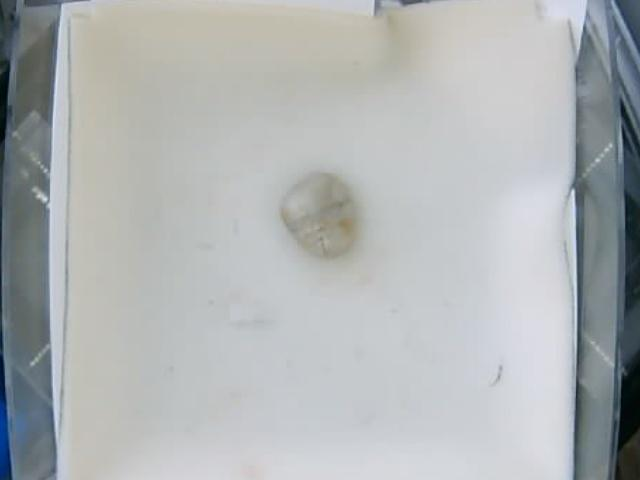Pebble: (280, 171, 357, 256)
